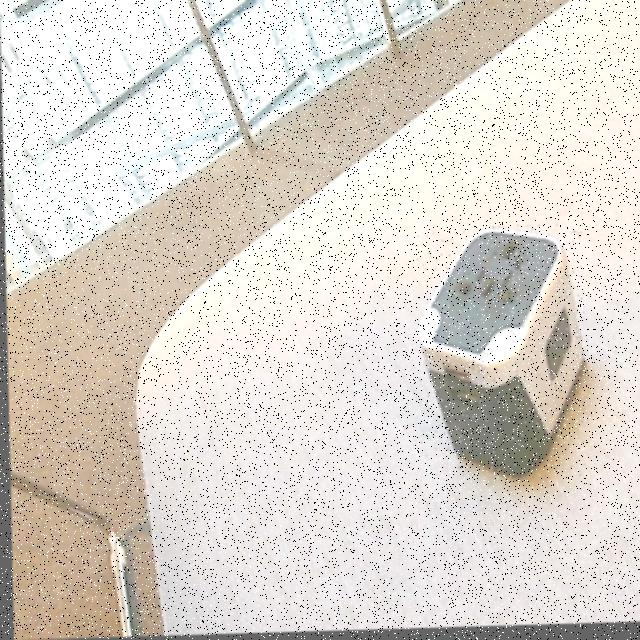adapter: (416, 227, 586, 483)
